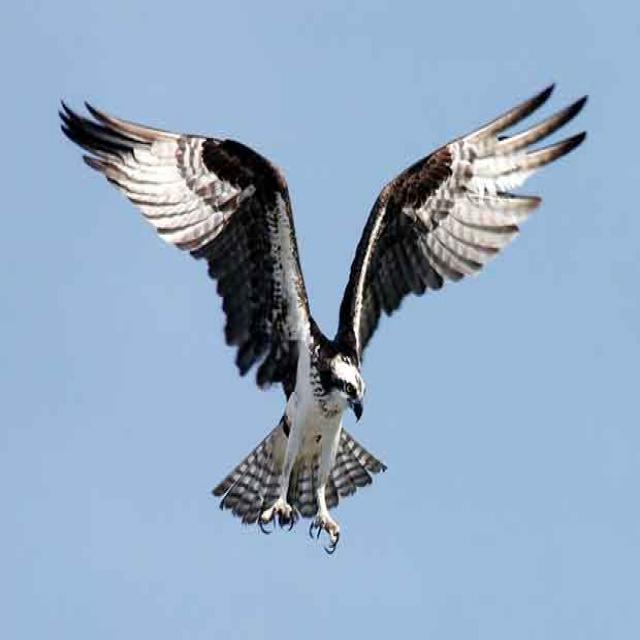birds: (58, 88, 586, 552)
